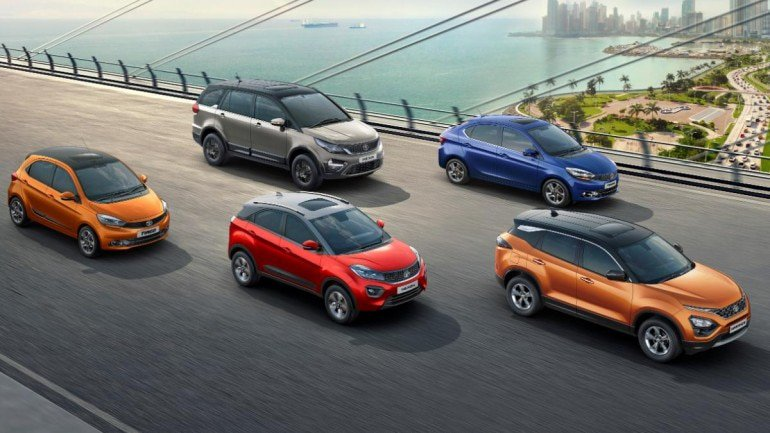car: (495, 212, 742, 362), (225, 195, 429, 323), (195, 78, 386, 189), (7, 146, 174, 255), (433, 116, 625, 206)
